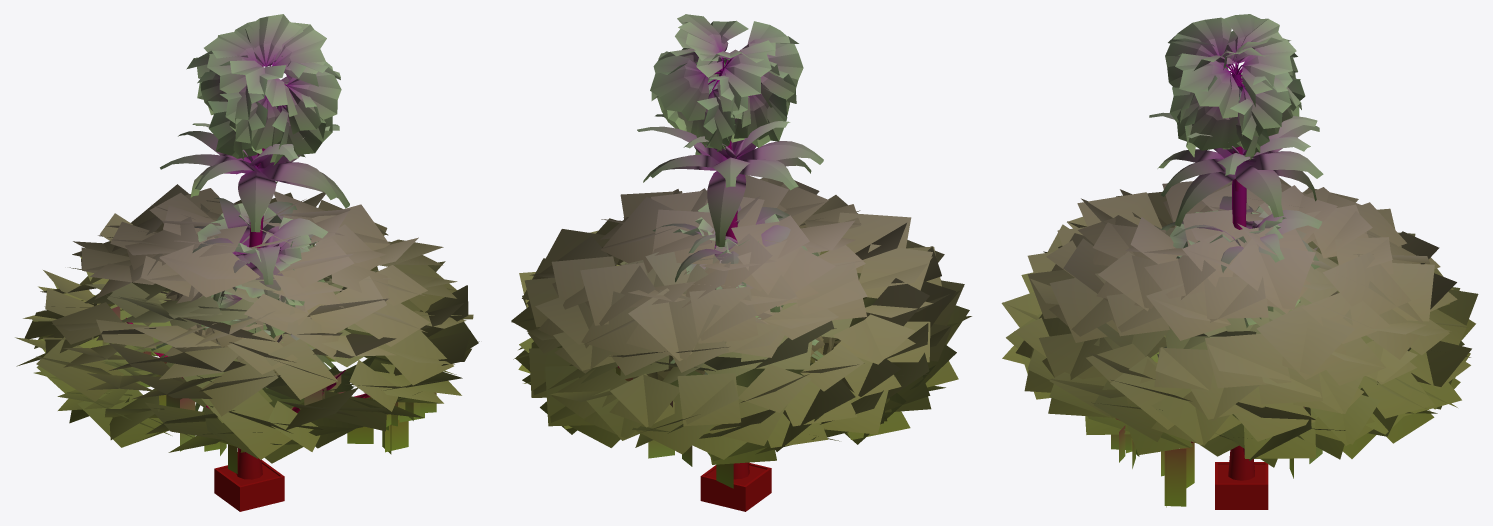
File: kit.glb
3 views of the same model, side by side, from view 1: azimuth 30°, elevation 25°; view 2: azimuth 150°, elevation 25°; view 3: azimuth 270°, elevation 25° (orthographic). The views are drawn at different scales.
Visible parts, largest first — view 1: kit-oak-lod0, kit-washingtonia-lod0, kit-royal-lod0, kit-queen-lod0, kit-sabal-lod0, kit-ground-planter, kit-broadleaf-lod0; view 2: kit-oak-lod0, kit-washingtonia-lod0, kit-royal-lod0, kit-ground-planter, kit-queen-lod0, kit-broadleaf-lod0, kit-sabal-lod0; view 3: kit-oak-lod0, kit-washingtonia-lod0, kit-royal-lod0, kit-ground-planter, kit-queen-lod0, kit-sabal-lod0.
Boxes of the visible parts, x1=… form: kit-oak-lod0: x1=15, y1=181, x2=479, y2=479; kit-washingtonia-lod0: x1=186, y1=14, x2=341, y2=166; kit-royal-lod0: x1=160, y1=123, x2=349, y2=248; kit-queen-lod0: x1=192, y1=197, x2=327, y2=301; kit-sabal-lod0: x1=197, y1=203, x2=325, y2=342; kit-ground-planter: x1=214, y1=460, x2=284, y2=511; kit-broadleaf-lod0: x1=160, y1=231, x2=330, y2=452; kit-oak-lod0: x1=511, y1=175, x2=971, y2=488; kit-washingtonia-lod0: x1=650, y1=14, x2=803, y2=151; kit-royal-lod0: x1=637, y1=114, x2=823, y2=246; kit-ground-planter: x1=700, y1=462, x2=771, y2=511; kit-queen-lod0: x1=652, y1=205, x2=819, y2=312; kit-broadleaf-lod0: x1=633, y1=246, x2=840, y2=381; kit-sabal-lod0: x1=673, y1=203, x2=783, y2=317; kit-oak-lod0: x1=1001, y1=177, x2=1478, y2=507; kit-washingtonia-lod0: x1=1165, y1=14, x2=1305, y2=217; kit-royal-lod0: x1=1149, y1=73, x2=1323, y2=229; kit-ground-planter: x1=1215, y1=462, x2=1268, y2=509; kit-queen-lod0: x1=1161, y1=196, x2=1322, y2=311; kit-sabal-lod0: x1=1170, y1=206, x2=1310, y2=327.
Size of what is drawn, in the model's own units: 18.41 by 19.81 by 17.87.
